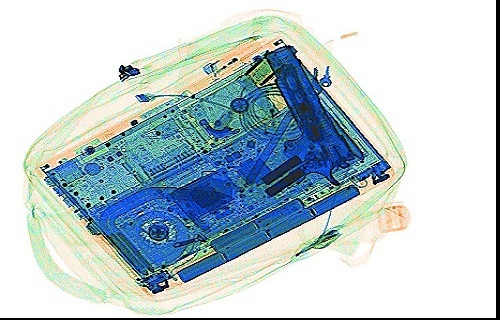lighter: (201, 34, 262, 80), (257, 79, 283, 138)
